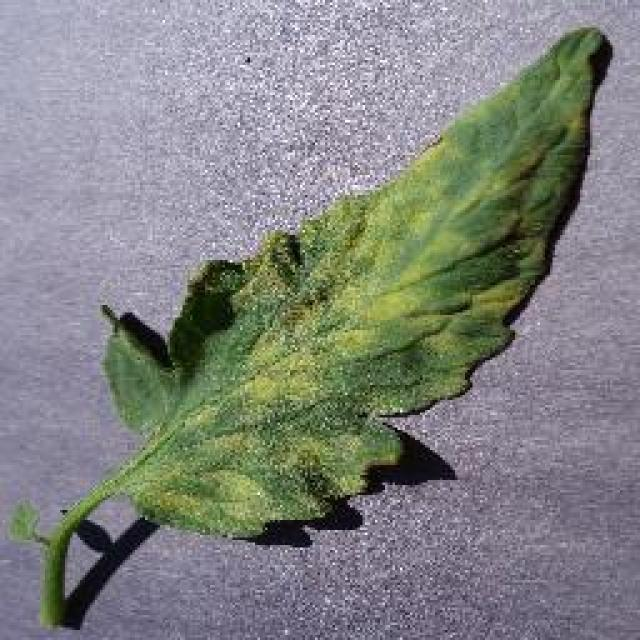Tomato mold leaf: (70, 30, 612, 542)
